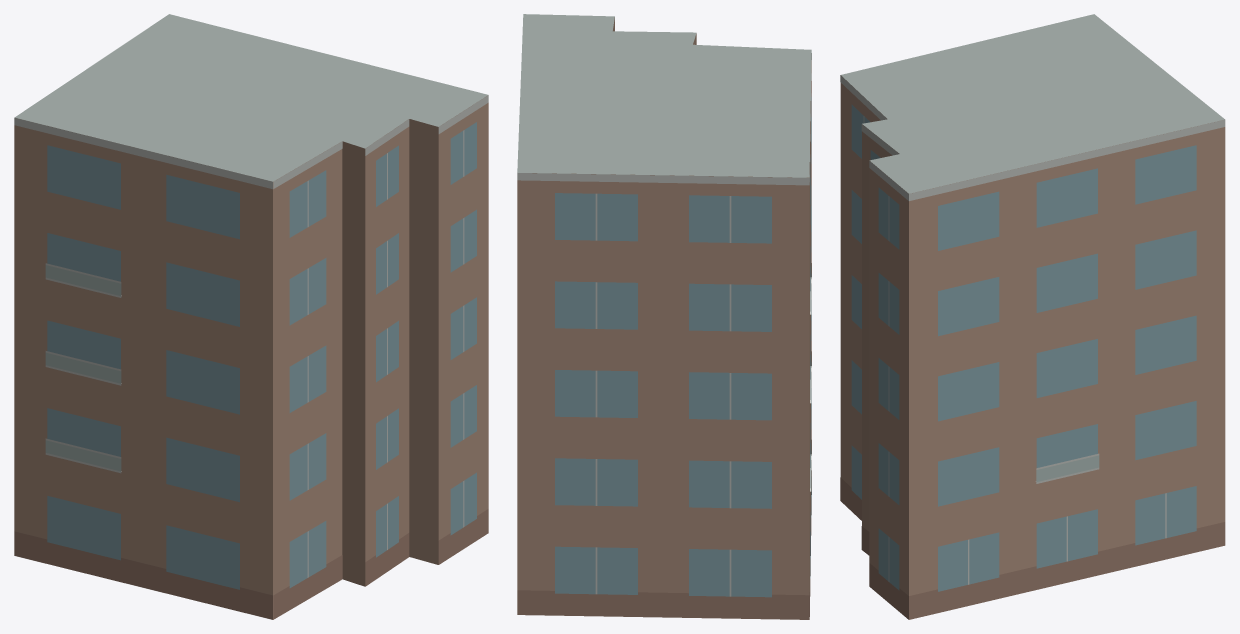
The model's file is survey-upis-33046440.glb.
3 views of the same model, side by side, from view 1: azimuth 30°, elevation 25°; view 2: azimuth 150°, elevation 25°; view 3: azimuth 270°, elevation 25° (orthographic). The views are drawn at different scales.
Visible parts, largest first — view 1: survey-upis-33046440.tmp; view 2: survey-upis-33046440.tmp; view 3: survey-upis-33046440.tmp.
Boxes of the visible parts, left/top/right/bottom form: survey-upis-33046440.tmp: left=14, top=14, right=488, bottom=619; survey-upis-33046440.tmp: left=517, top=14, right=811, bottom=619; survey-upis-33046440.tmp: left=840, top=14, right=1225, bottom=619.
Bounding box in the file's own units: 12.77 × 14.1 × 11.55.
